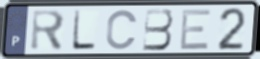2: (217, 6, 248, 52)
B: (141, 7, 175, 53)
C: (105, 9, 140, 52)
E: (178, 7, 213, 51)
L: (70, 8, 98, 51)
R: (29, 8, 68, 52)
